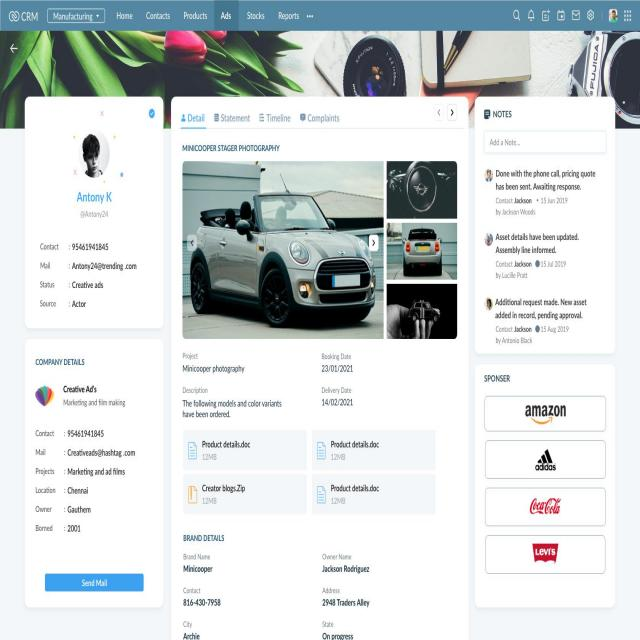button: (485, 439, 606, 480), (484, 534, 606, 574), (486, 487, 605, 527), (485, 395, 606, 432), (44, 572, 144, 592)
input: (484, 130, 607, 154)
select: (47, 8, 105, 24)
